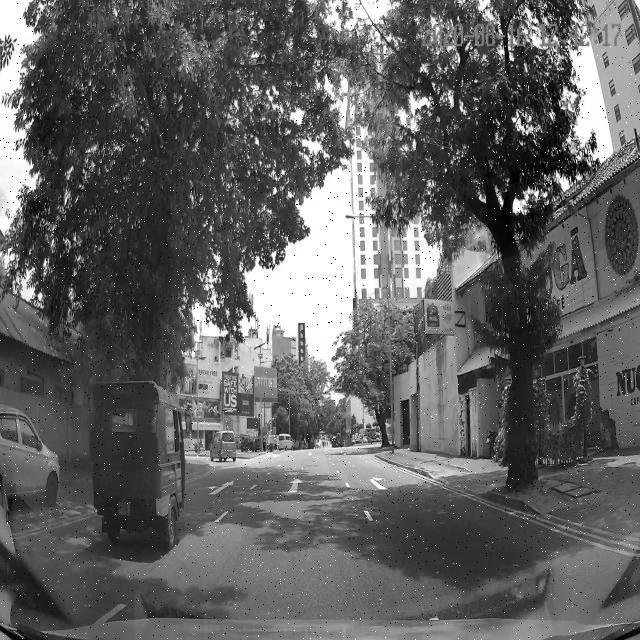forward: (247, 471, 358, 495)
right: (343, 468, 444, 503)
